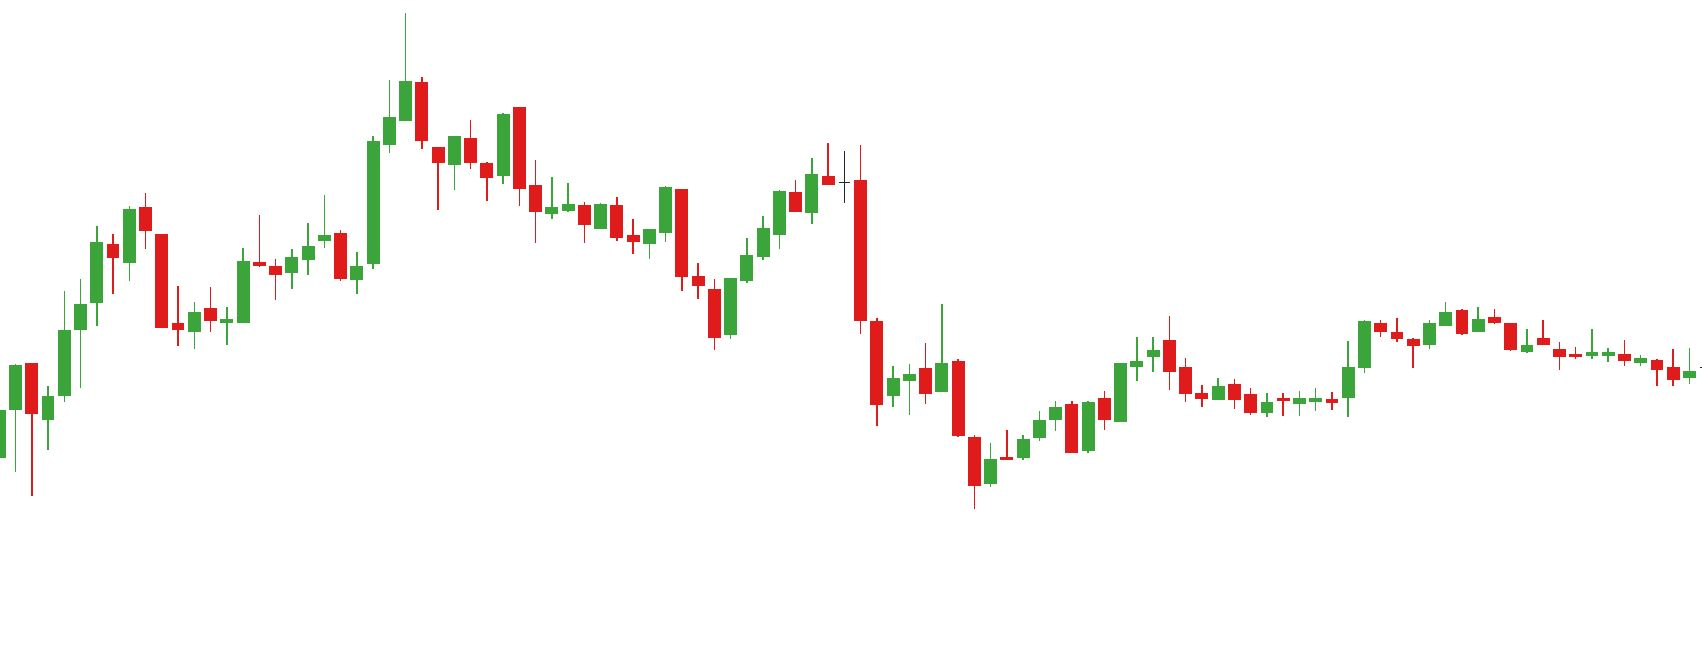buy: (87, 246, 202, 352)
